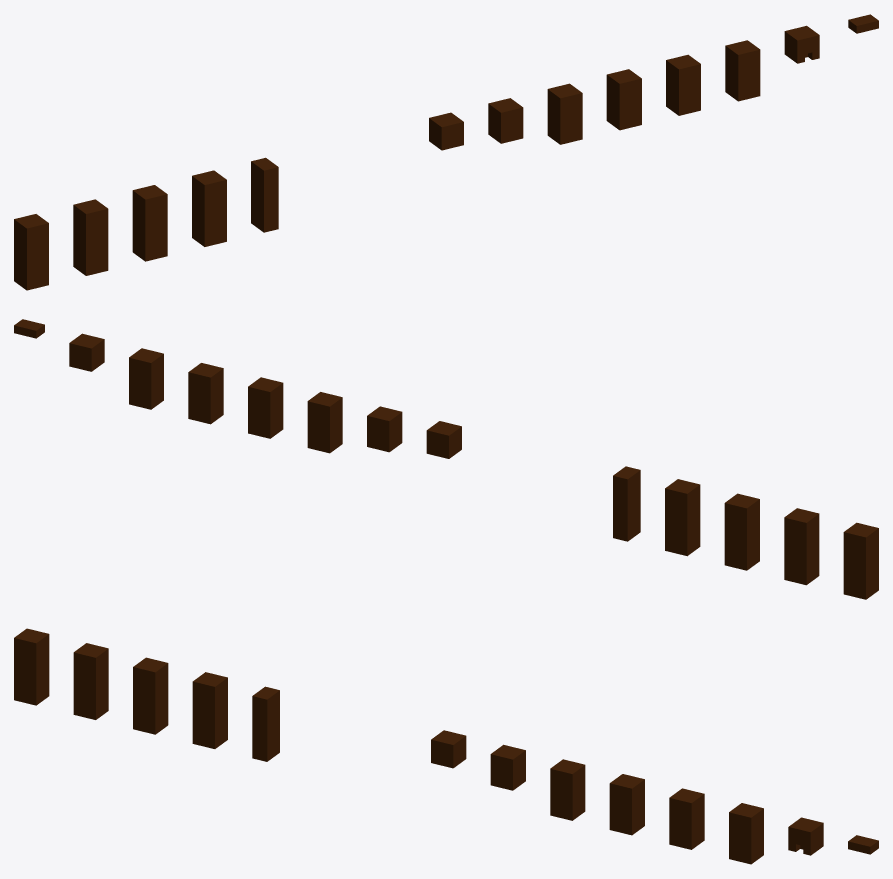
Rendered from lvl2-30.obj.
The picture shows the model from 3 angles, top to bottom: view 1: azimuth 30°, elevation 25°; view 2: azimuth 150°, elevation 25°; view 3: azimuth 330°, elevation 25°; orthographic projection.
Size of the model in its own units: 11.5 by 0.8 by 0.3.
Materials: 1 (1 with a texture image).
